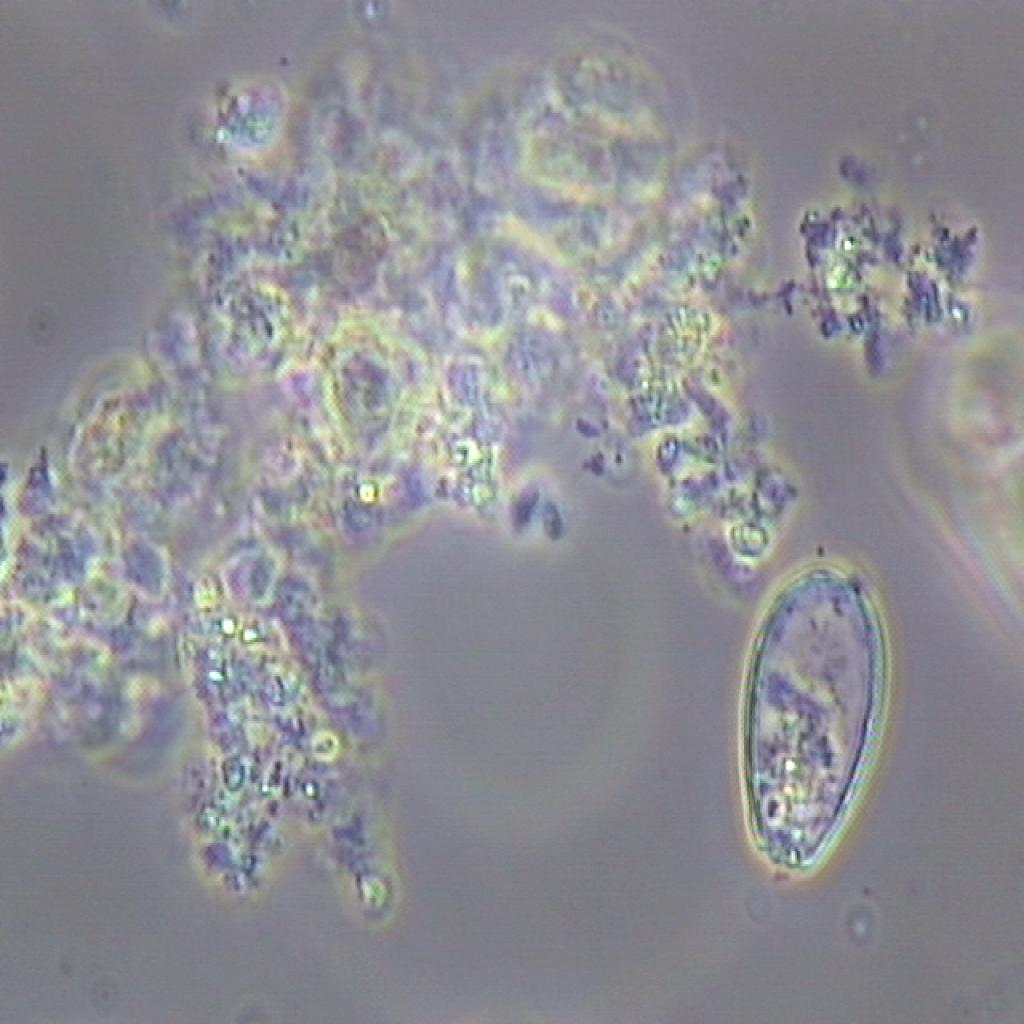Euglypha: (706, 552, 907, 914)
